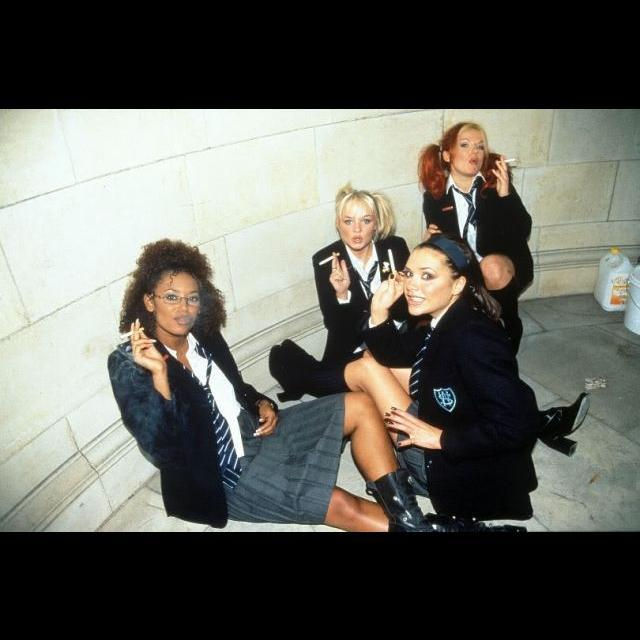rokok: (316, 248, 348, 266), (386, 251, 402, 277), (116, 328, 148, 338), (496, 154, 518, 166)
